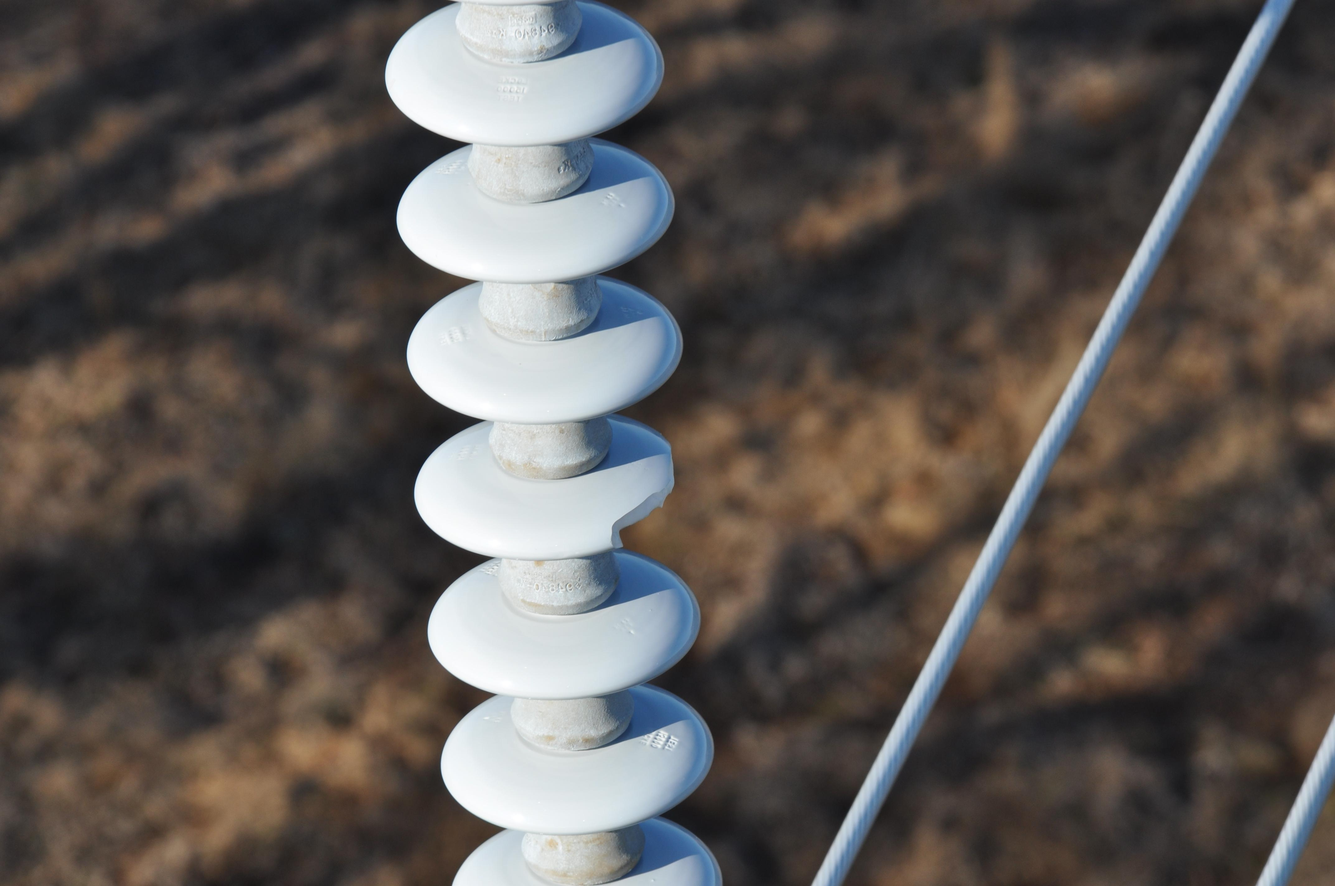damaged: (561, 430, 681, 555)
insulator: (387, 16, 720, 886)
